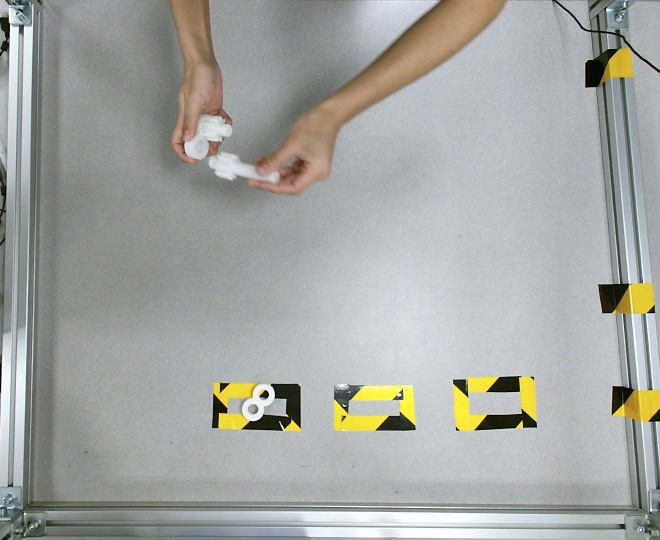stage_2: (184, 114, 232, 159)
